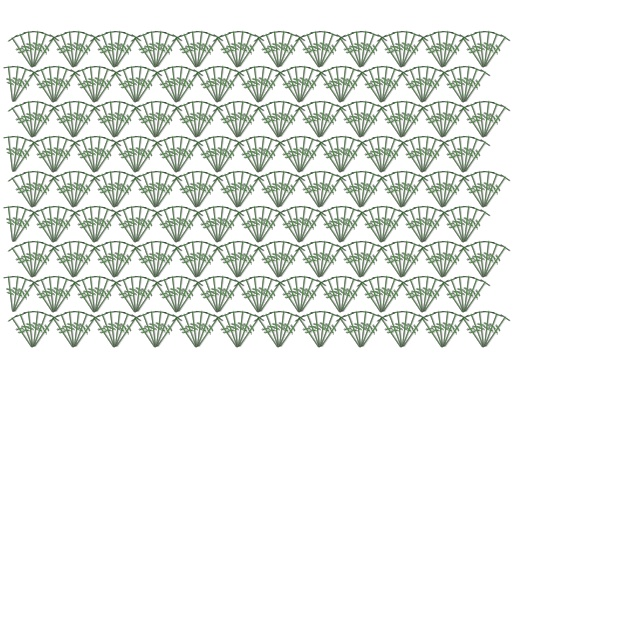fan: (6, 33, 40, 73), (28, 33, 62, 73), (47, 33, 81, 73), (69, 33, 103, 73), (88, 33, 122, 73), (110, 33, 144, 73), (129, 33, 163, 73), (151, 33, 185, 73), (170, 33, 204, 73), (192, 33, 226, 73), (211, 33, 245, 73), (233, 33, 267, 73), (252, 33, 286, 73), (274, 33, 308, 73), (293, 33, 327, 73), (315, 33, 349, 73), (334, 33, 368, 73), (356, 33, 390, 73), (375, 33, 409, 73), (397, 33, 431, 73), (416, 33, 450, 73), (438, 33, 472, 73), (457, 33, 491, 73), (479, 33, 513, 73), (8, 68, 42, 108), (27, 68, 61, 108), (49, 68, 83, 108), (68, 68, 102, 108), (90, 68, 124, 108), (109, 68, 143, 108), (131, 68, 165, 108), (150, 68, 184, 108), (172, 68, 206, 108), (191, 68, 225, 108), (213, 68, 247, 108), (232, 68, 266, 108), (254, 68, 288, 108), (273, 68, 307, 108), (295, 68, 329, 108), (314, 68, 348, 108), (336, 68, 370, 108), (355, 68, 389, 108), (377, 68, 411, 108), (396, 68, 430, 108), (418, 68, 452, 108), (437, 68, 471, 108), (459, 68, 493, 108), (6, 103, 40, 143), (28, 103, 62, 143), (47, 103, 81, 143), (69, 103, 103, 143), (88, 103, 122, 143), (110, 103, 144, 143), (129, 103, 163, 143), (151, 103, 185, 143), (170, 103, 204, 143), (192, 103, 226, 143), (211, 103, 245, 143), (233, 103, 267, 143), (252, 103, 286, 143), (274, 103, 308, 143), (293, 103, 327, 143), (315, 103, 349, 143), (334, 103, 368, 143), (356, 103, 390, 143), (375, 103, 409, 143), (397, 103, 431, 143), (416, 103, 450, 143), (438, 103, 472, 143), (457, 103, 491, 143), (479, 103, 513, 143), (8, 138, 42, 178), (27, 138, 61, 178), (49, 138, 83, 178), (68, 138, 102, 178), (90, 138, 124, 178), (109, 138, 143, 178), (131, 138, 165, 178), (150, 138, 184, 178), (172, 138, 206, 178), (191, 138, 225, 178), (213, 138, 247, 178), (232, 138, 266, 178), (254, 138, 288, 178), (273, 138, 307, 178), (295, 138, 329, 178), (314, 138, 348, 178), (336, 138, 370, 178), (355, 138, 389, 178), (377, 138, 411, 178), (396, 138, 430, 178), (418, 138, 452, 178), (437, 138, 471, 178), (459, 138, 493, 178), (6, 173, 40, 213), (28, 173, 62, 213), (47, 173, 81, 213), (69, 173, 103, 213), (88, 173, 122, 213), (110, 173, 144, 213), (129, 173, 163, 213), (151, 173, 185, 213), (170, 173, 204, 213), (192, 173, 226, 213), (211, 173, 245, 213), (233, 173, 267, 213), (252, 173, 286, 213), (274, 173, 308, 213), (293, 173, 327, 213), (315, 173, 349, 213), (334, 173, 368, 213), (356, 173, 390, 213), (375, 173, 409, 213), (397, 173, 431, 213), (416, 173, 450, 213), (438, 173, 472, 213), (457, 173, 491, 213), (479, 173, 513, 213), (8, 208, 42, 248), (27, 208, 61, 248), (49, 208, 83, 248), (68, 208, 102, 248), (90, 208, 124, 248), (109, 208, 143, 248), (131, 208, 165, 248), (150, 208, 184, 248), (172, 208, 206, 248), (191, 208, 225, 248), (213, 208, 247, 248), (232, 208, 266, 248), (254, 208, 288, 248), (273, 208, 307, 248), (295, 208, 329, 248), (314, 208, 348, 248), (336, 208, 370, 248), (355, 208, 389, 248), (377, 208, 411, 248), (396, 208, 430, 248), (418, 208, 452, 248), (437, 208, 471, 248), (459, 208, 493, 248), (6, 243, 40, 283), (28, 243, 62, 283), (47, 243, 81, 283), (69, 243, 103, 283), (88, 243, 122, 283), (110, 243, 144, 283), (129, 243, 163, 283), (151, 243, 185, 283), (170, 243, 204, 283), (192, 243, 226, 283), (211, 243, 245, 283), (233, 243, 267, 283), (252, 243, 286, 283), (274, 243, 308, 283), (293, 243, 327, 283), (315, 243, 349, 283), (334, 243, 368, 283), (356, 243, 390, 283), (375, 243, 409, 283), (397, 243, 431, 283), (416, 243, 450, 283), (438, 243, 472, 283), (457, 243, 491, 283), (479, 243, 513, 283), (8, 278, 42, 318), (27, 278, 61, 318), (49, 278, 83, 318), (68, 278, 102, 318), (90, 278, 124, 318), (109, 278, 143, 318), (131, 278, 165, 318), (150, 278, 184, 318), (172, 278, 206, 318), (191, 278, 225, 318), (213, 278, 247, 318), (232, 278, 266, 318), (254, 278, 288, 318), (273, 278, 307, 318), (295, 278, 329, 318), (314, 278, 348, 318), (336, 278, 370, 318), (355, 278, 389, 318), (377, 278, 411, 318), (396, 278, 430, 318), (418, 278, 452, 318), (437, 278, 471, 318), (459, 278, 493, 318), (6, 313, 40, 353), (28, 313, 62, 353), (47, 313, 81, 353), (69, 313, 103, 353), (88, 313, 122, 353), (110, 313, 144, 353), (129, 313, 163, 353), (151, 313, 185, 353), (170, 313, 204, 353), (192, 313, 226, 353), (211, 313, 245, 353), (233, 313, 267, 353), (252, 313, 286, 353), (274, 313, 308, 353), (293, 313, 327, 353), (315, 313, 349, 353), (334, 313, 368, 353), (356, 313, 390, 353), (375, 313, 409, 353), (397, 313, 431, 353), (416, 313, 450, 353), (438, 313, 472, 353), (457, 313, 491, 353), (479, 313, 513, 353), (14, 30, 41, 71), (27, 30, 54, 71), (55, 30, 82, 71), (68, 30, 95, 71), (96, 30, 123, 71), (109, 30, 136, 71), (137, 30, 164, 71), (150, 30, 177, 71), (178, 30, 205, 71), (191, 30, 218, 71), (219, 30, 246, 71), (232, 30, 259, 71), (260, 30, 287, 71), (273, 30, 300, 71), (301, 30, 328, 71), (314, 30, 341, 71), (342, 30, 369, 71), (355, 30, 382, 71), (383, 30, 410, 71), (396, 30, 423, 71), (424, 30, 451, 71), (437, 30, 464, 71), (465, 30, 492, 71), (478, 30, 505, 71), (7, 65, 34, 106), (35, 65, 62, 106), (48, 65, 75, 106), (76, 65, 103, 106), (89, 65, 116, 106), (117, 65, 144, 106), (130, 65, 157, 106), (158, 65, 185, 106), (171, 65, 198, 106), (199, 65, 226, 106), (212, 65, 239, 106), (240, 65, 267, 106), (253, 65, 280, 106), (281, 65, 308, 106), (294, 65, 321, 106), (322, 65, 349, 106), (335, 65, 362, 106), (363, 65, 390, 106), (376, 65, 403, 106), (404, 65, 431, 106), (417, 65, 444, 106), (445, 65, 472, 106), (458, 65, 485, 106), (14, 100, 41, 141), (27, 100, 54, 141), (55, 100, 82, 141), (68, 100, 95, 141), (96, 100, 123, 141), (109, 100, 136, 141), (137, 100, 164, 141), (150, 100, 177, 141), (178, 100, 205, 141), (191, 100, 218, 141), (219, 100, 246, 141), (232, 100, 259, 141), (260, 100, 287, 141), (273, 100, 300, 141), (301, 100, 328, 141), (314, 100, 341, 141), (342, 100, 369, 141), (355, 100, 382, 141), (383, 100, 410, 141), (396, 100, 423, 141), (424, 100, 451, 141), (437, 100, 464, 141), (465, 100, 492, 141), (478, 100, 505, 141), (7, 135, 34, 176), (35, 135, 62, 176), (48, 135, 75, 176), (76, 135, 103, 176), (89, 135, 116, 176), (117, 135, 144, 176), (130, 135, 157, 176), (158, 135, 185, 176), (171, 135, 198, 176), (199, 135, 226, 176), (212, 135, 239, 176), (240, 135, 267, 176), (253, 135, 280, 176), (281, 135, 308, 176), (294, 135, 321, 176), (322, 135, 349, 176), (335, 135, 362, 176), (363, 135, 390, 176), (376, 135, 403, 176), (404, 135, 431, 176), (417, 135, 444, 176), (445, 135, 472, 176), (458, 135, 485, 176), (14, 170, 41, 211), (27, 170, 54, 211), (55, 170, 82, 211), (68, 170, 95, 211), (96, 170, 123, 211), (109, 170, 136, 211), (137, 170, 164, 211), (150, 170, 177, 211), (178, 170, 205, 211), (191, 170, 218, 211), (219, 170, 246, 211), (232, 170, 259, 211), (260, 170, 287, 211), (273, 170, 300, 211), (301, 170, 328, 211), (314, 170, 341, 211), (342, 170, 369, 211), (355, 170, 382, 211), (383, 170, 410, 211), (396, 170, 423, 211), (424, 170, 451, 211), (437, 170, 464, 211), (465, 170, 492, 211), (478, 170, 505, 211), (7, 205, 34, 246), (35, 205, 62, 246), (48, 205, 75, 246), (76, 205, 103, 246), (89, 205, 116, 246), (117, 205, 144, 246), (130, 205, 157, 246), (158, 205, 185, 246), (171, 205, 198, 246), (199, 205, 226, 246), (212, 205, 239, 246), (240, 205, 267, 246), (253, 205, 280, 246), (281, 205, 308, 246), (294, 205, 321, 246), (322, 205, 349, 246), (335, 205, 362, 246), (363, 205, 390, 246), (376, 205, 403, 246), (404, 205, 431, 246), (417, 205, 444, 246), (445, 205, 472, 246), (458, 205, 485, 246), (14, 240, 41, 281), (27, 240, 54, 281), (55, 240, 82, 281), (68, 240, 95, 281), (96, 240, 123, 281), (109, 240, 136, 281), (137, 240, 164, 281), (150, 240, 177, 281), (178, 240, 205, 281), (191, 240, 218, 281), (219, 240, 246, 281), (232, 240, 259, 281), (260, 240, 287, 281), (273, 240, 300, 281), (301, 240, 328, 281), (314, 240, 341, 281), (342, 240, 369, 281), (355, 240, 382, 281), (383, 240, 410, 281), (396, 240, 423, 281), (424, 240, 451, 281), (437, 240, 464, 281), (465, 240, 492, 281), (478, 240, 505, 281), (7, 275, 34, 316), (35, 275, 62, 316), (48, 275, 75, 316), (76, 275, 103, 316), (89, 275, 116, 316), (117, 275, 144, 316), (130, 275, 157, 316), (158, 275, 185, 316), (171, 275, 198, 316), (199, 275, 226, 316), (212, 275, 239, 316), (240, 275, 267, 316), (253, 275, 280, 316), (281, 275, 308, 316), (294, 275, 321, 316), (322, 275, 349, 316), (335, 275, 362, 316), (363, 275, 390, 316), (376, 275, 403, 316), (404, 275, 431, 316), (417, 275, 444, 316), (445, 275, 472, 316), (458, 275, 485, 316), (14, 310, 41, 351), (27, 310, 54, 351), (55, 310, 82, 351), (68, 310, 95, 351), (96, 310, 123, 351), (109, 310, 136, 351), (137, 310, 164, 351), (150, 310, 177, 351), (178, 310, 205, 351), (191, 310, 218, 351), (219, 310, 246, 351), (232, 310, 259, 351), (260, 310, 287, 351), (273, 310, 300, 351), (301, 310, 328, 351), (314, 310, 341, 351), (342, 310, 369, 351), (355, 310, 382, 351), (383, 310, 410, 351), (396, 310, 423, 351), (424, 310, 451, 351), (437, 310, 464, 351), (465, 310, 492, 351), (478, 310, 505, 351), (22, 29, 41, 70), (27, 29, 46, 70), (63, 29, 82, 70), (68, 29, 87, 70), (104, 29, 123, 70), (109, 29, 128, 70), (145, 29, 164, 70), (150, 29, 169, 70), (186, 29, 205, 70), (191, 29, 210, 70), (227, 29, 246, 70), (232, 29, 251, 70), (268, 29, 287, 70), (273, 29, 292, 70), (309, 29, 328, 70), (314, 29, 333, 70), (350, 29, 369, 70), (355, 29, 374, 70), (391, 29, 410, 70), (396, 29, 415, 70), (432, 29, 451, 70), (437, 29, 456, 70), (473, 29, 492, 70), (478, 29, 497, 70), (2, 64, 21, 105), (7, 64, 26, 105), (43, 64, 62, 105), (48, 64, 67, 105), (84, 64, 103, 105), (89, 64, 108, 105), (125, 64, 144, 105), (130, 64, 149, 105), (166, 64, 185, 105), (171, 64, 190, 105), (207, 64, 226, 105), (212, 64, 231, 105), (248, 64, 267, 105), (253, 64, 272, 105), (289, 64, 308, 105), (294, 64, 313, 105), (330, 64, 349, 105), (335, 64, 354, 105), (371, 64, 390, 105), (376, 64, 395, 105), (412, 64, 431, 105), (417, 64, 436, 105), (453, 64, 472, 105), (458, 64, 477, 105), (22, 99, 41, 140), (27, 99, 46, 140), (63, 99, 82, 140), (68, 99, 87, 140), (104, 99, 123, 140), (109, 99, 128, 140), (145, 99, 164, 140), (150, 99, 169, 140), (186, 99, 205, 140), (191, 99, 210, 140), (227, 99, 246, 140), (232, 99, 251, 140), (268, 99, 287, 140), (273, 99, 292, 140), (309, 99, 328, 140), (314, 99, 333, 140), (350, 99, 369, 140), (355, 99, 374, 140), (391, 99, 410, 140), (396, 99, 415, 140), (432, 99, 451, 140), (437, 99, 456, 140), (473, 99, 492, 140), (478, 99, 497, 140), (2, 134, 21, 175), (7, 134, 26, 175), (43, 134, 62, 175), (48, 134, 67, 175), (84, 134, 103, 175), (89, 134, 108, 175), (125, 134, 144, 175), (130, 134, 149, 175), (166, 134, 185, 175), (171, 134, 190, 175), (207, 134, 226, 175), (212, 134, 231, 175), (248, 134, 267, 175), (253, 134, 272, 175), (289, 134, 308, 175), (294, 134, 313, 175), (330, 134, 349, 175), (335, 134, 354, 175), (371, 134, 390, 175), (376, 134, 395, 175), (412, 134, 431, 175), (417, 134, 436, 175), (453, 134, 472, 175), (458, 134, 477, 175), (22, 169, 41, 210), (27, 169, 46, 210), (63, 169, 82, 210), (68, 169, 87, 210), (104, 169, 123, 210), (109, 169, 128, 210), (145, 169, 164, 210), (150, 169, 169, 210), (186, 169, 205, 210), (191, 169, 210, 210), (227, 169, 246, 210), (232, 169, 251, 210), (268, 169, 287, 210), (273, 169, 292, 210), (309, 169, 328, 210), (314, 169, 333, 210), (350, 169, 369, 210), (355, 169, 374, 210), (391, 169, 410, 210), (396, 169, 415, 210), (432, 169, 451, 210), (437, 169, 456, 210), (473, 169, 492, 210), (478, 169, 497, 210), (2, 204, 21, 245), (7, 204, 26, 245), (43, 204, 62, 245), (48, 204, 67, 245), (84, 204, 103, 245), (89, 204, 108, 245), (125, 204, 144, 245), (130, 204, 149, 245), (166, 204, 185, 245), (171, 204, 190, 245), (207, 204, 226, 245), (212, 204, 231, 245), (248, 204, 267, 245), (253, 204, 272, 245), (289, 204, 308, 245), (294, 204, 313, 245), (330, 204, 349, 245), (335, 204, 354, 245), (371, 204, 390, 245), (376, 204, 395, 245), (412, 204, 431, 245), (417, 204, 436, 245), (453, 204, 472, 245), (458, 204, 477, 245), (22, 239, 41, 280), (27, 239, 46, 280), (63, 239, 82, 280), (68, 239, 87, 280), (104, 239, 123, 280), (109, 239, 128, 280), (145, 239, 164, 280), (150, 239, 169, 280), (186, 239, 205, 280), (191, 239, 210, 280), (227, 239, 246, 280), (232, 239, 251, 280), (268, 239, 287, 280), (273, 239, 292, 280), (309, 239, 328, 280), (314, 239, 333, 280), (350, 239, 369, 280), (355, 239, 374, 280), (391, 239, 410, 280), (396, 239, 415, 280), (432, 239, 451, 280), (437, 239, 456, 280), (473, 239, 492, 280), (478, 239, 497, 280), (2, 274, 21, 315), (7, 274, 26, 315), (43, 274, 62, 315), (48, 274, 67, 315), (84, 274, 103, 315), (89, 274, 108, 315), (125, 274, 144, 315), (130, 274, 149, 315), (166, 274, 185, 315), (171, 274, 190, 315), (207, 274, 226, 315), (212, 274, 231, 315), (248, 274, 267, 315), (253, 274, 272, 315), (289, 274, 308, 315), (294, 274, 313, 315), (330, 274, 349, 315), (335, 274, 354, 315), (371, 274, 390, 315), (376, 274, 395, 315), (412, 274, 431, 315), (417, 274, 436, 315), (453, 274, 472, 315), (458, 274, 477, 315), (22, 309, 41, 350), (27, 309, 46, 350), (63, 309, 82, 350), (68, 309, 87, 350), (104, 309, 123, 350), (109, 309, 128, 350), (145, 309, 164, 350), (150, 309, 169, 350), (186, 309, 205, 350), (191, 309, 210, 350), (227, 309, 246, 350), (232, 309, 251, 350), (268, 309, 287, 350), (273, 309, 292, 350), (309, 309, 328, 350), (314, 309, 333, 350), (350, 309, 369, 350), (355, 309, 374, 350), (391, 309, 410, 350), (396, 309, 415, 350), (432, 309, 451, 350), (437, 309, 456, 350), (473, 309, 492, 350), (478, 309, 497, 350)
